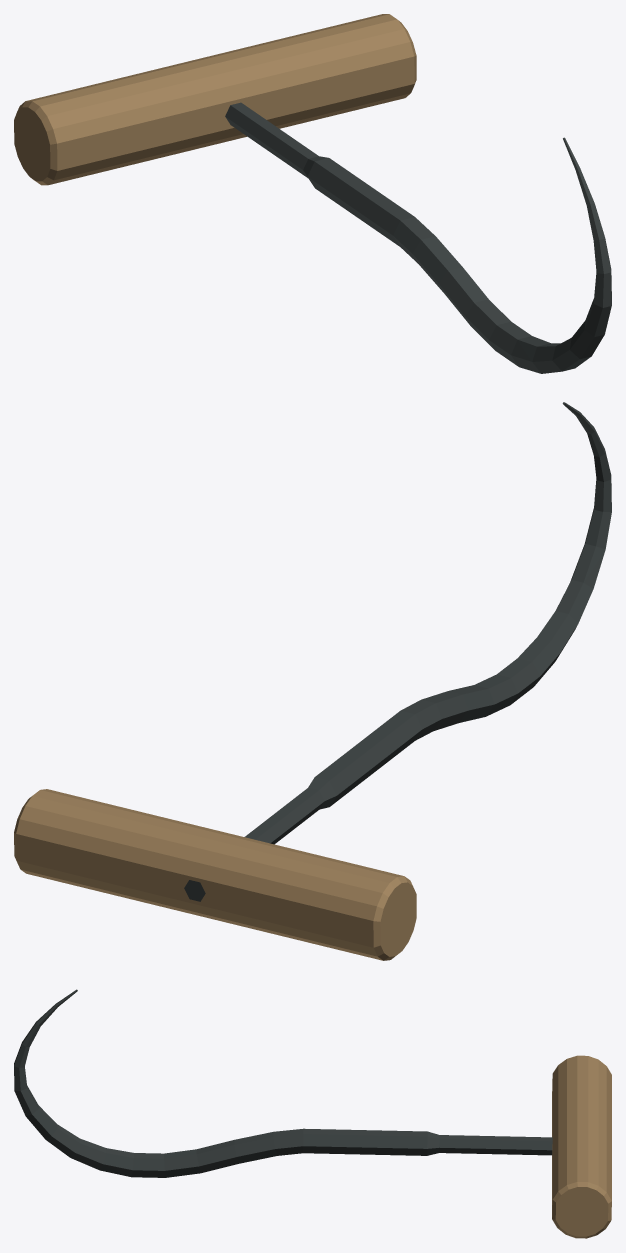
3 views of the same model, one above another, from view 1: azimuth 30°, elevation 25°; view 2: azimuth 150°, elevation 25°; view 3: azimuth 270°, elevation 25° (orthographic). The views are drawn at different scales.
Parts seen in each view (by area): view 1: Wood_T_grip_with_through_hex_bore, Continuous_hex_steel_tang_shank_hook; view 2: Wood_T_grip_with_through_hex_bore, Continuous_hex_steel_tang_shank_hook; view 3: Continuous_hex_steel_tang_shank_hook, Wood_T_grip_with_through_hex_bore.
Boxes of the visible parts, <box> form: Wood_T_grip_with_through_hex_bore: <box>14,14,416,185</box>; Continuous_hex_steel_tang_shank_hook: <box>225,102,611,373</box>; Wood_T_grip_with_through_hex_bore: <box>14,789,416,960</box>; Continuous_hex_steel_tang_shank_hook: <box>184,402,611,901</box>; Continuous_hex_steel_tang_shank_hook: <box>14,989,552,1177</box>; Wood_T_grip_with_through_hex_bore: <box>552,1055,611,1238</box>.
Size of the model in its own units: 0.16 by 0.107 by 0.3123.
